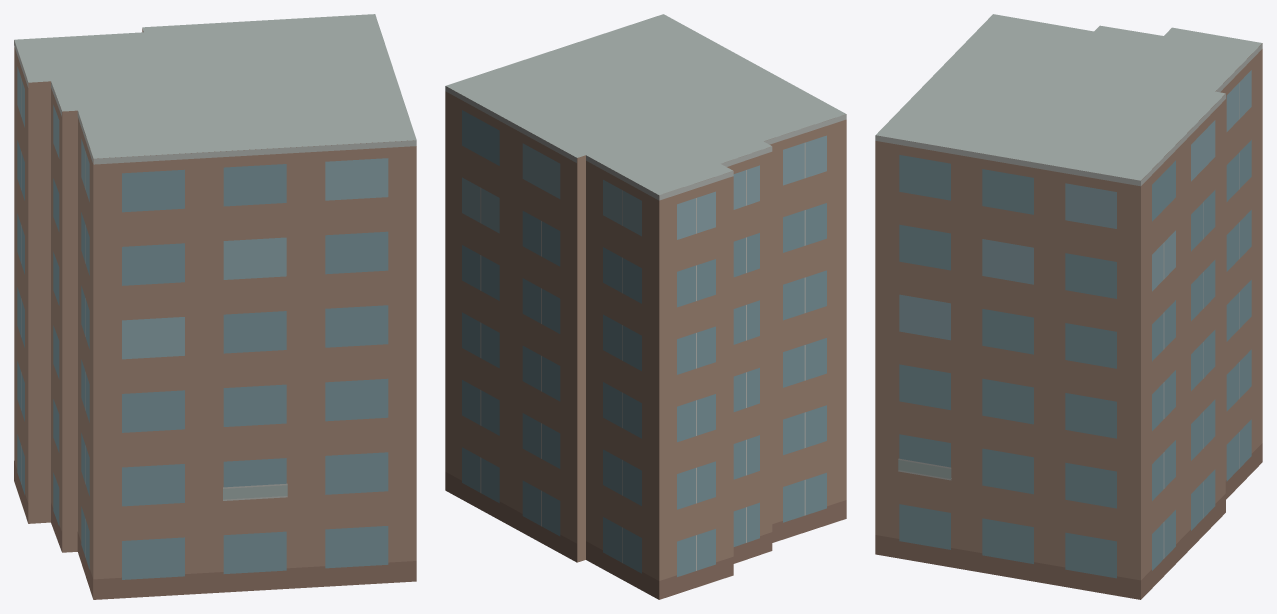
Rendered from survey-upis-32944792.glb.
3 views of the same model, side by side, from view 1: azimuth 30°, elevation 25°; view 2: azimuth 150°, elevation 25°; view 3: azimuth 270°, elevation 25° (orthographic). The views are drawn at different scales.
Visible parts, largest first — view 1: survey-upis-32944792.tmp; view 2: survey-upis-32944792.tmp; view 3: survey-upis-32944792.tmp.
Part boxes in pixels (x1,y1,x2,y2): survey-upis-32944792.tmp: (14, 14, 416, 599); survey-upis-32944792.tmp: (445, 14, 846, 599); survey-upis-32944792.tmp: (875, 14, 1262, 599).
Size of the model in its own units: 15.62 by 18.3 by 15.32.
